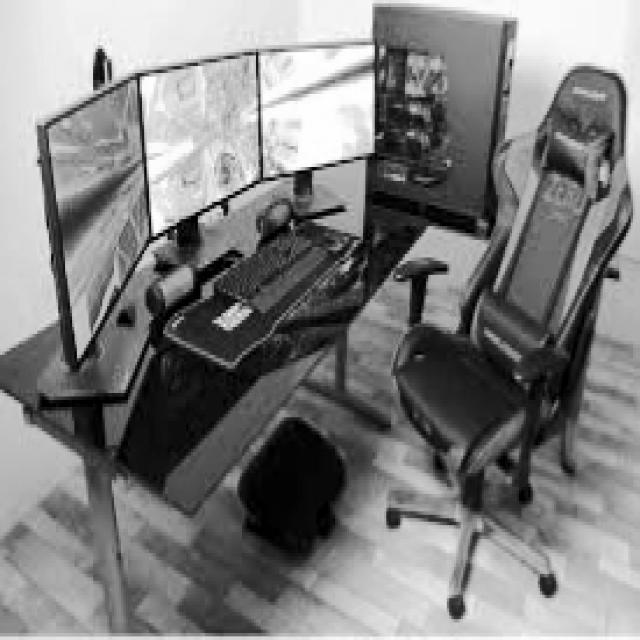book: (382, 63, 633, 619)
table: (6, 157, 473, 615)
